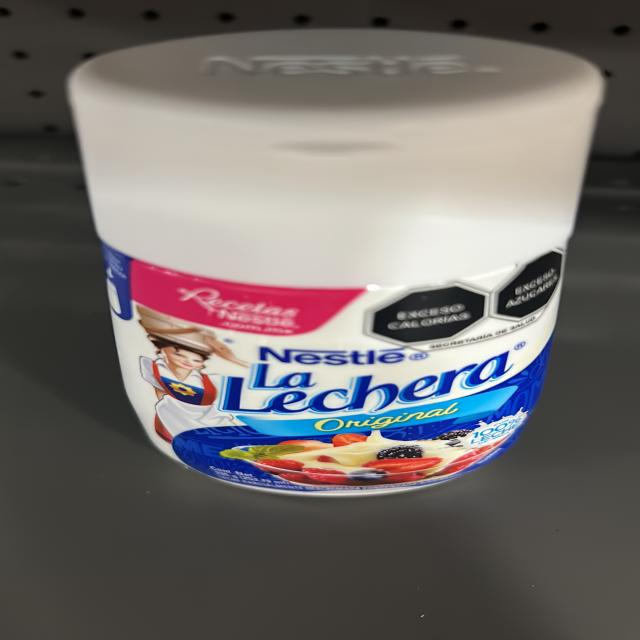nestleCarnation: (90, 48, 580, 494)
